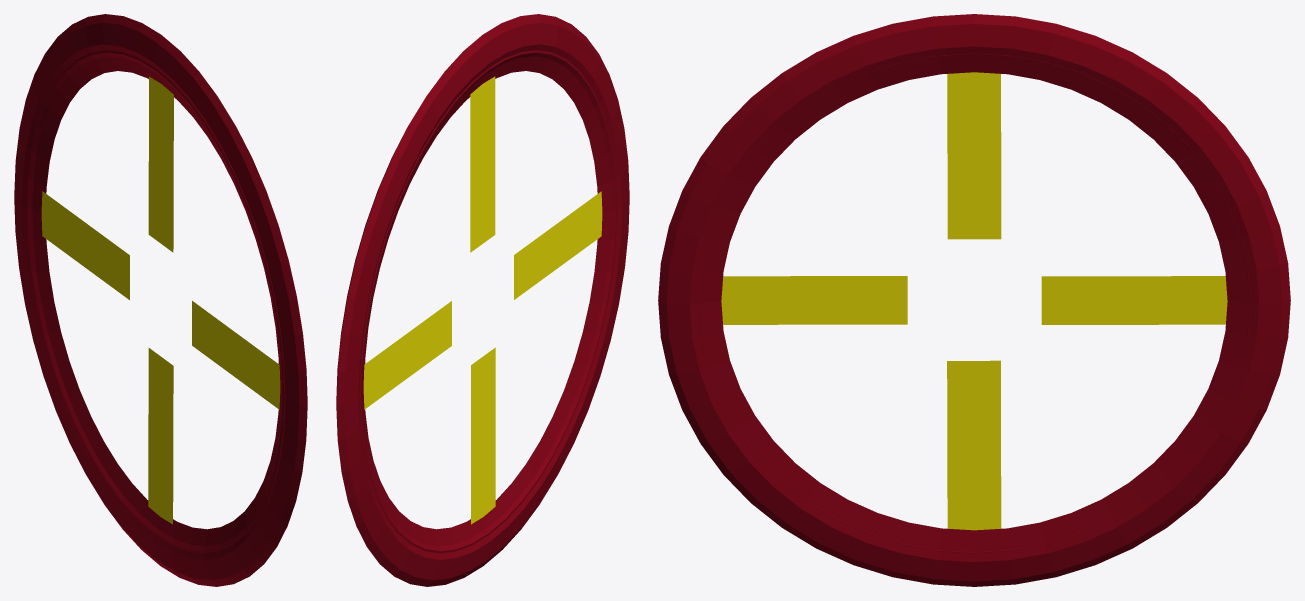
The model's file is aim.obj.
3 views of the same model, side by side, from view 1: azimuth 30°, elevation 25°; view 2: azimuth 150°, elevation 25°; view 3: azimuth 270°, elevation 25° (orthographic). The views are drawn at different scales.
Parts seen in each view (by area): view 1: トーラス.001; view 2: トーラス.001; view 3: トーラス.001.
Part boxes in pixels (x1=…): トーラス.001: x1=14, y1=14, x2=307, y2=586; トーラス.001: x1=336, y1=14, x2=629, y2=586; トーラス.001: x1=658, y1=14, x2=1290, y2=586.
Bounding box in the file's own units: 0.0752 × 2.5 × 2.5.
Materials: 2 (2 with a texture image).
